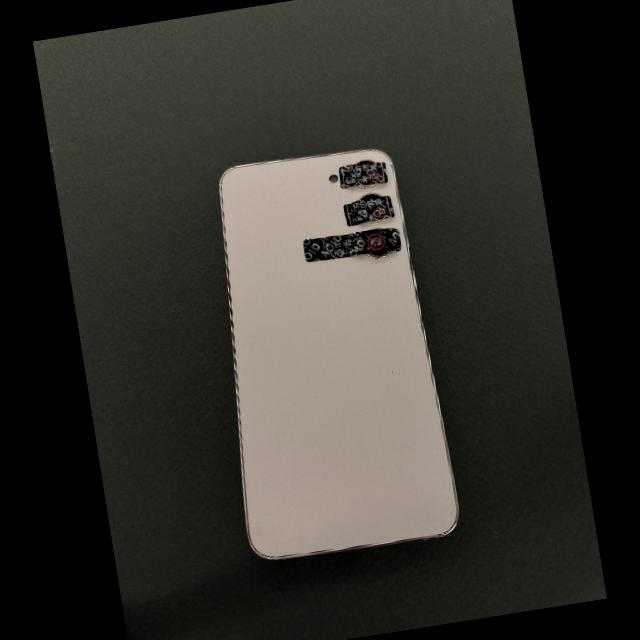lens: (364, 251, 392, 259), (353, 159, 375, 165), (359, 193, 380, 199)
phone: (220, 149, 457, 559)
sticker: (304, 228, 401, 262), (344, 195, 395, 227), (339, 162, 388, 188)
